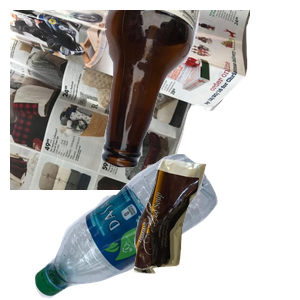glass: (99, 10, 300, 170)
paper: (10, 10, 250, 190)
plastic: (32, 154, 242, 300)
trash: (131, 157, 300, 300)
